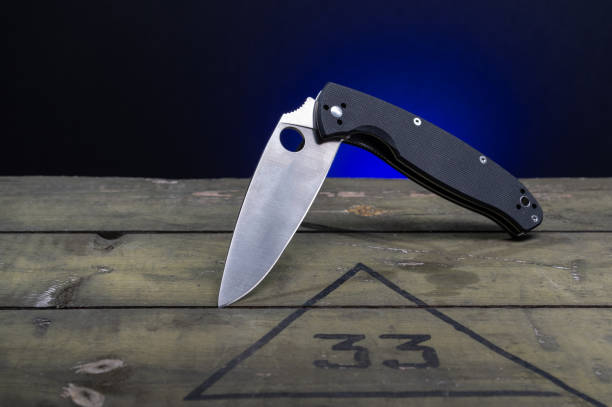knife: (216, 78, 544, 310)
